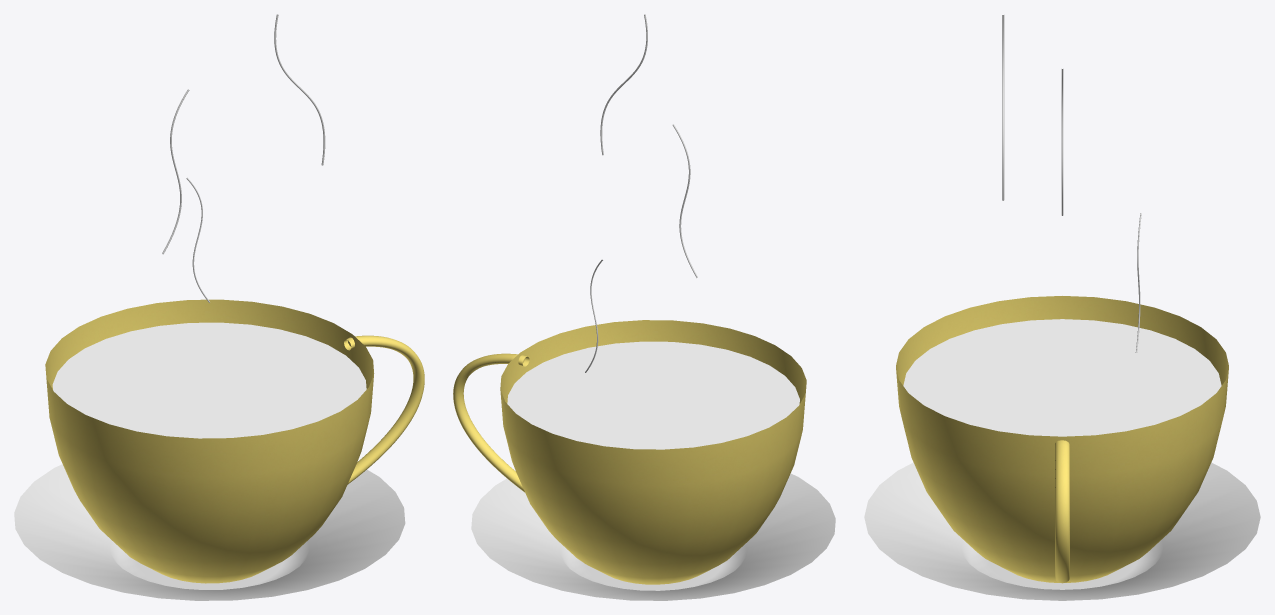
Rendered from cafe.glb.
3 views of the same model, side by side, from view 1: azimuth 30°, elevation 25°; view 2: azimuth 150°, elevation 25°; view 3: azimuth 270°, elevation 25° (orthographic). The views are drawn at different scales.
Visible parts, largest first — view 1: Sphere, Circle, Sphere.001, NurbsPath; view 2: Sphere, Circle, Sphere.001, NurbsPath; view 3: Sphere, Circle, Sphere.001, NurbsPath, NurbsPath.003.
Boxes of the visible parts, <box> form: Sphere: <box>45,299,374,583</box>; Circle: <box>52,322,366,438</box>; Sphere.001: <box>14,464,405,600</box>; NurbsPath: <box>344,335,424,484</box>; Sphere: <box>500,320,806,584</box>; Circle: <box>507,341,799,449</box>; Sphere.001: <box>471,473,835,600</box>; NurbsPath: <box>453,353,529,492</box>; Sphere: <box>896,296,1228,582</box>; Circle: <box>903,319,1221,436</box>; Sphere.001: <box>864,462,1260,600</box>; NurbsPath: <box>1054,440,1069,583</box>; NurbsPath.003: <box>1002,15,1004,200</box>.
Bounding box in the file's own units: 2.69 × 3.73 × 2.38.
Materials: 4 (2 with a texture image).
